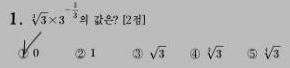choice: (16, 43, 30, 59)
not-choice: (73, 47, 87, 60), (188, 47, 201, 60), (245, 47, 259, 59), (131, 47, 143, 60)
